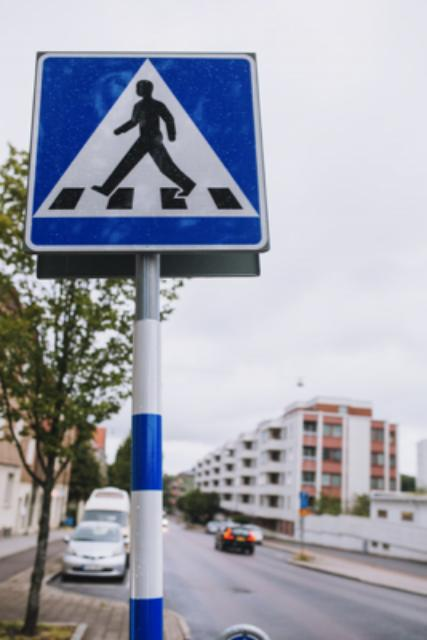crosswalk-sign: (23, 51, 271, 257)
